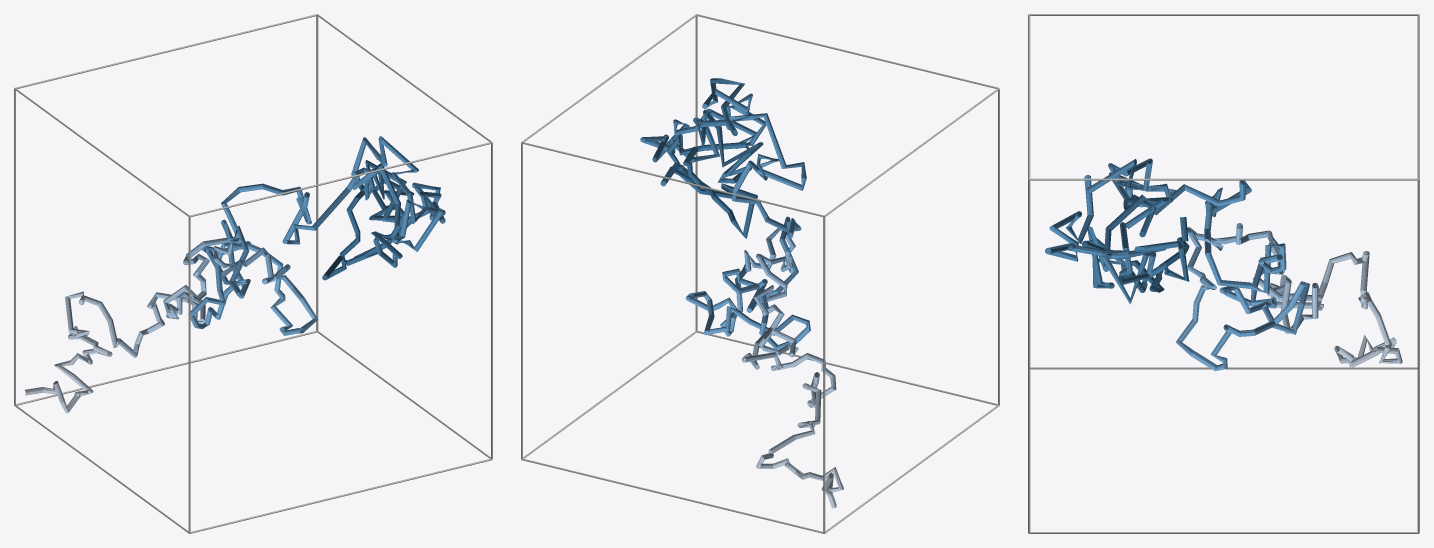
3 views of the same model, side by side, from view 1: azimuth 30°, elevation 25°; view 2: azimuth 150°, elevation 25°; view 3: azimuth 270°, elevation 25° (orthographic). The views are drawn at different scales.
Visible parts, largest first — view 1: geometry_0, geometry_1; view 2: geometry_0, geometry_1; view 3: geometry_0, geometry_1.
Boxes of the visible parts, bbox=[...] form: geometry_0: bbox=[25, 136, 445, 413]; geometry_1: bbox=[14, 14, 492, 533]; geometry_0: bbox=[640, 78, 843, 508]; geometry_1: bbox=[521, 14, 999, 533]; geometry_0: bbox=[1045, 158, 1402, 371]; geometry_1: bbox=[1028, 14, 1419, 533].
Bounding box in the file's own units: 0.3043 × 0.3014 × 0.3016.
